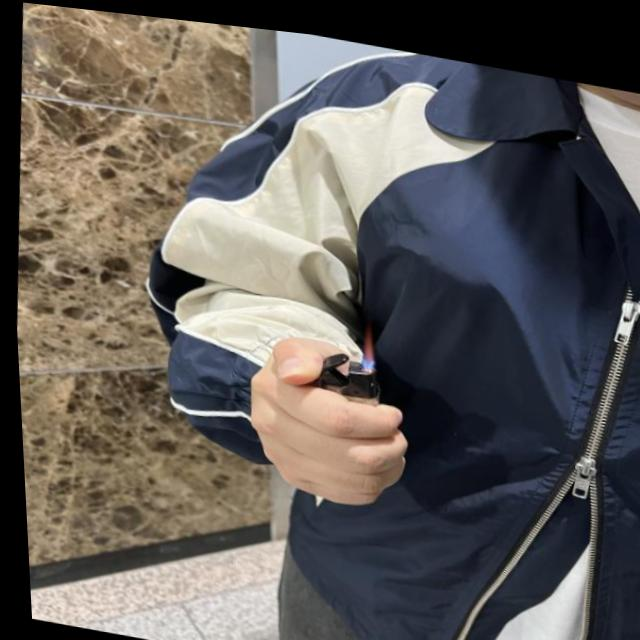Fire: (355, 318, 377, 363)
